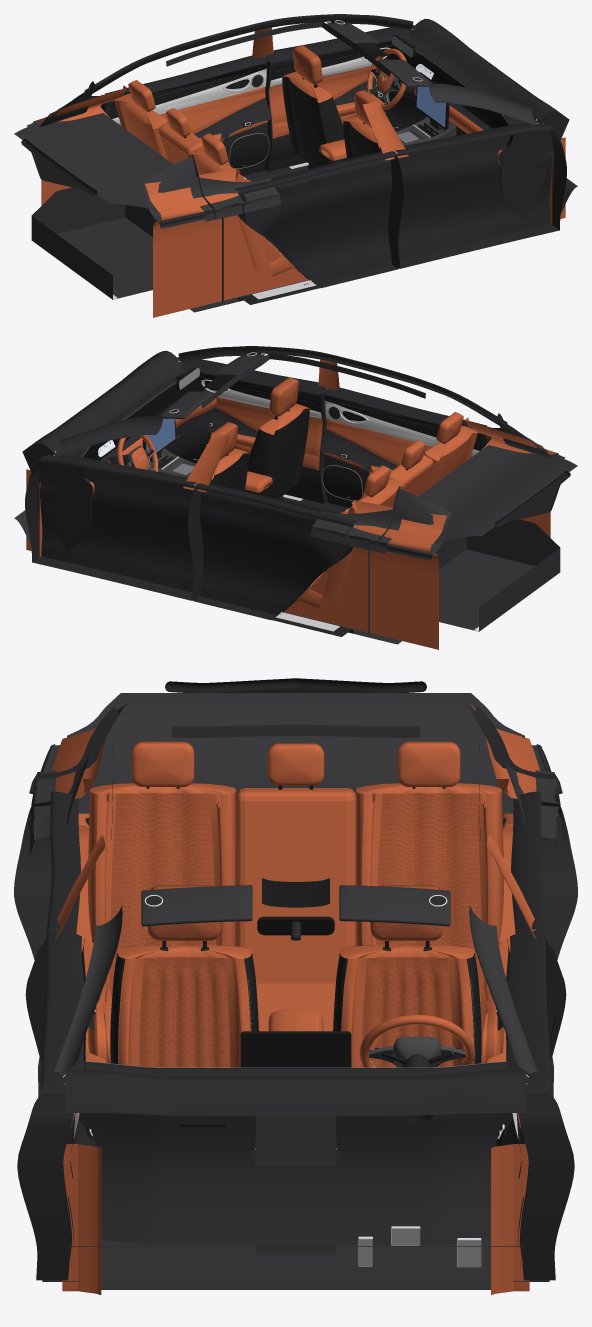
Rendered from byd-seal-interior.glb.
3 renders of one model, top to bottom at view 1: azimuth 30°, elevation 25°; view 2: azimuth 150°, elevation 25°; view 3: azimuth 270°, elevation 25°, orthographic. The views are drawn at different scales.
Parts seen in each view (by area): view 1: BYDSeal_Cabin, int_door_R, int_rdoor_R, int_rdoor_L, int_door_L, int_headliner, int_tailgate, screen_main; view 2: BYDSeal_Cabin, int_door_L, int_rdoor_L, int_rdoor_R, int_door_R, int_headliner, int_tailgate, screen_main; view 3: BYDSeal_Cabin, int_door_L, int_door_R, int_rdoor_R, int_rdoor_L, int_tailgate, int_headliner.
Part boxes in pixels (x1,y1,x2,y2): BYDSeal_Cabin: [14, 14, 577, 317]; int_door_R: [395, 123, 566, 268]; int_rdoor_R: [233, 151, 401, 288]; int_rdoor_L: [100, 55, 272, 175]; int_door_L: [264, 25, 414, 171]; int_headliner: [56, 18, 390, 110]; int_tailgate: [21, 139, 97, 195]; screen_main: [416, 86, 446, 127]; BYDSeal_Cabin: [14, 346, 577, 649]; int_door_L: [25, 455, 196, 600]; int_rdoor_L: [190, 483, 358, 620]; int_rdoor_R: [319, 387, 491, 507]; int_door_R: [177, 357, 327, 503]; int_headliner: [201, 350, 535, 442]; int_tailgate: [494, 471, 570, 527]; screen_main: [146, 418, 175, 456]; BYDSeal_Cabin: [29, 693, 562, 1294]; int_door_L: [485, 930, 574, 1280]; int_door_R: [17, 930, 106, 1280]; int_rdoor_R: [14, 791, 100, 1096]; int_rdoor_L: [491, 791, 577, 1096]; int_tailgate: [165, 678, 426, 692]; int_headliner: [171, 724, 420, 737].
Bounding box in the file's own units: 3.23 × 1.14 × 1.82.
Materials: 33 (2 with a texture image).
